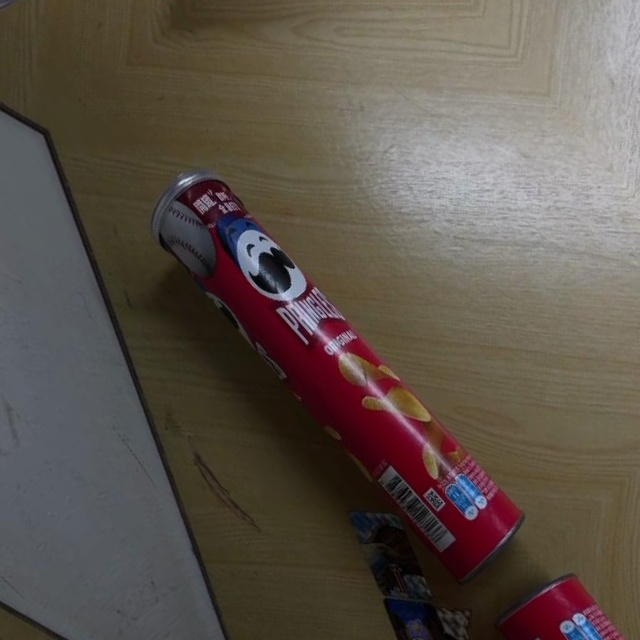Pringles: (131, 143, 534, 594)
